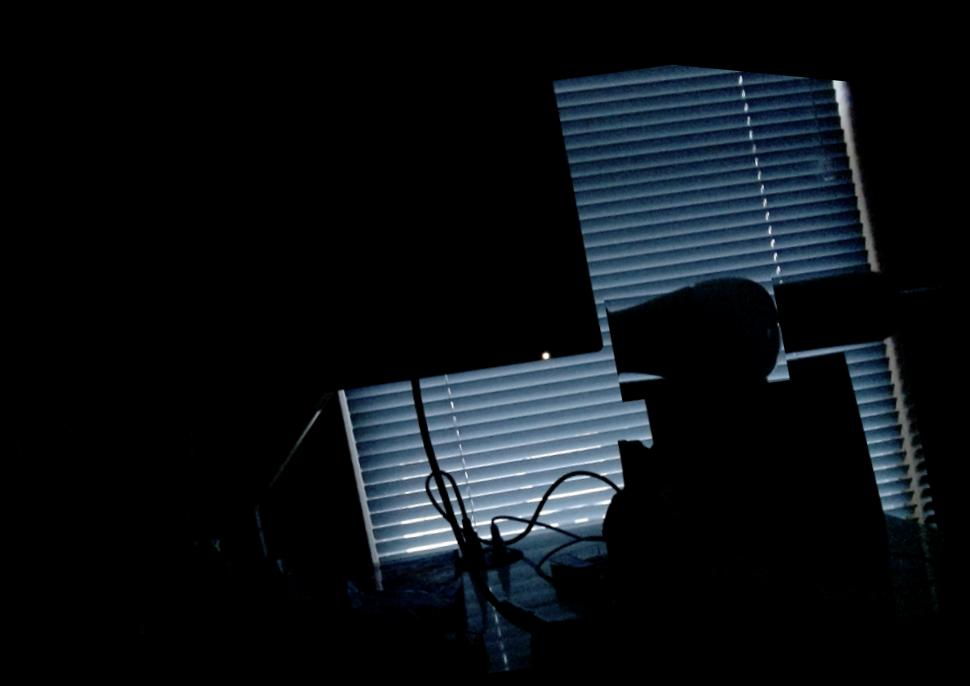Fan: (601, 242, 796, 401)
